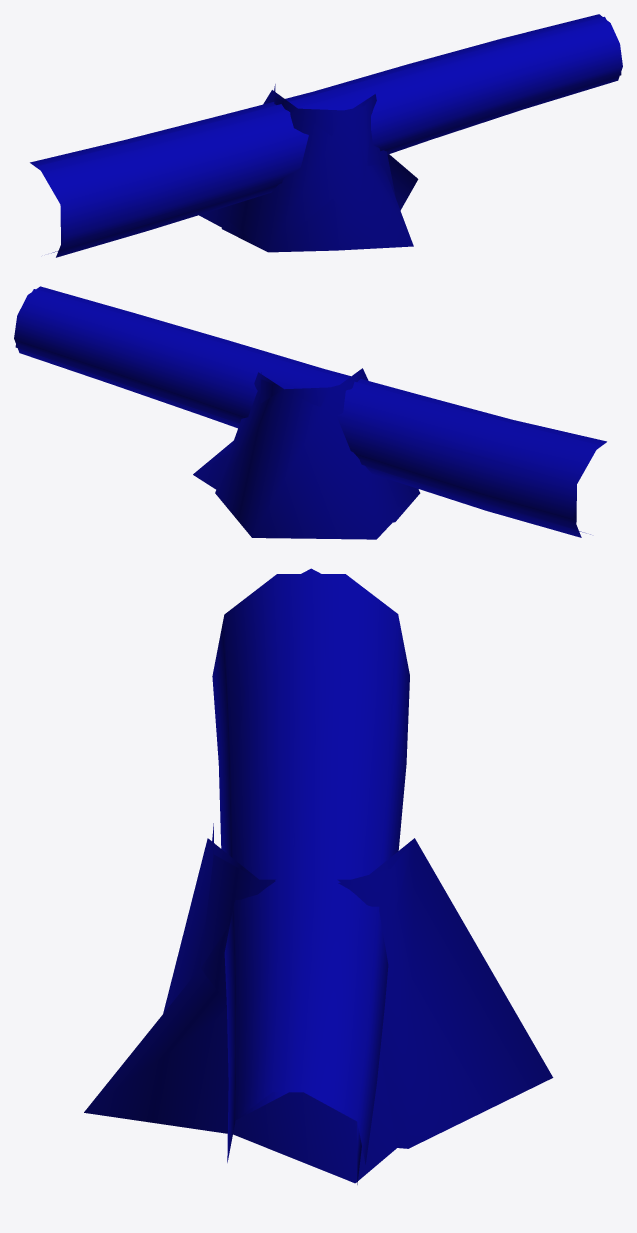
File: misc.glb
The picture shows the model from 3 angles, top to bottom: view 1: azimuth 30°, elevation 25°; view 2: azimuth 150°, elevation 25°; view 3: azimuth 270°, elevation 25°; orthographic projection. The views are drawn at different scales.
Parts seen in each view (by area): view 1: v2_lod0_bark, v1_lod1_bark, v2_lod1_bark, v1_lod0_bark, v0_lod0_bark; view 2: v2_lod0_bark, v1_lod1_bark, v2_lod1_bark, v1_lod0_bark; view 3: v2_lod0_bark, v1_lod1_bark, v1_lod0_bark, v2_lod1_bark.
Boxes of the visible parts, x1=… form: v2_lod0_bark: x1=30, y1=14, x2=622, y2=257; v1_lod1_bark: x1=199, y1=90, x2=395, y2=251; v2_lod1_bark: x1=38, y1=16, x2=621, y2=253; v1_lod0_bark: x1=274, y1=84, x2=418, y2=250; v0_lod0_bark: x1=221, y1=198, x2=342, y2=252; v2_lod0_bark: x1=14, y1=286, x2=606, y2=537; v1_lod1_bark: x1=215, y1=368, x2=419, y2=539; v2_lod1_bark: x1=15, y1=289, x2=598, y2=534; v1_lod0_bark: x1=193, y1=368, x2=362, y2=489; v2_lod0_bark: x1=212, y1=574, x2=409, y2=1164; v1_lod1_bark: x1=163, y1=838, x2=553, y2=1148; v1_lod0_bark: x1=84, y1=823, x2=414, y2=1183; v2_lod1_bark: x1=224, y1=568, x2=397, y2=1184.
Bounding box in the file's own units: 4.17 × 0.9239 × 1.5.
